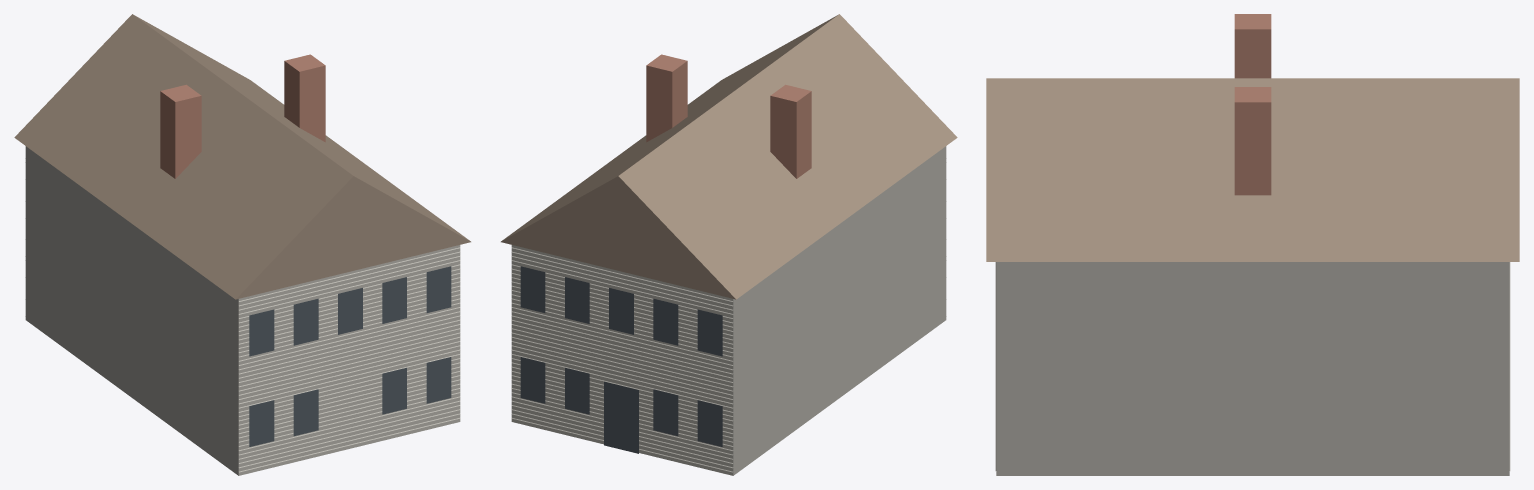
Rendered from recon_1835_north_t1_028__inferred_1835.glb.
3 views of the same model, side by side, from view 1: azimuth 30°, elevation 25°; view 2: azimuth 150°, elevation 25°; view 3: azimuth 270°, elevation 25° (orthographic). The views are drawn at different scales.
Visible parts, largest first — view 1: recon_1835_north_t1_028__inferred_1835; view 2: recon_1835_north_t1_028__inferred_1835; view 3: recon_1835_north_t1_028__inferred_1835.
Part boxes in pixels (bbox=[...]): recon_1835_north_t1_028__inferred_1835: bbox=[14, 14, 470, 475]; recon_1835_north_t1_028__inferred_1835: bbox=[501, 14, 957, 475]; recon_1835_north_t1_028__inferred_1835: bbox=[986, 14, 1519, 475].
Bounding box in the file's own units: 8.12 × 9.62 × 13.18.
